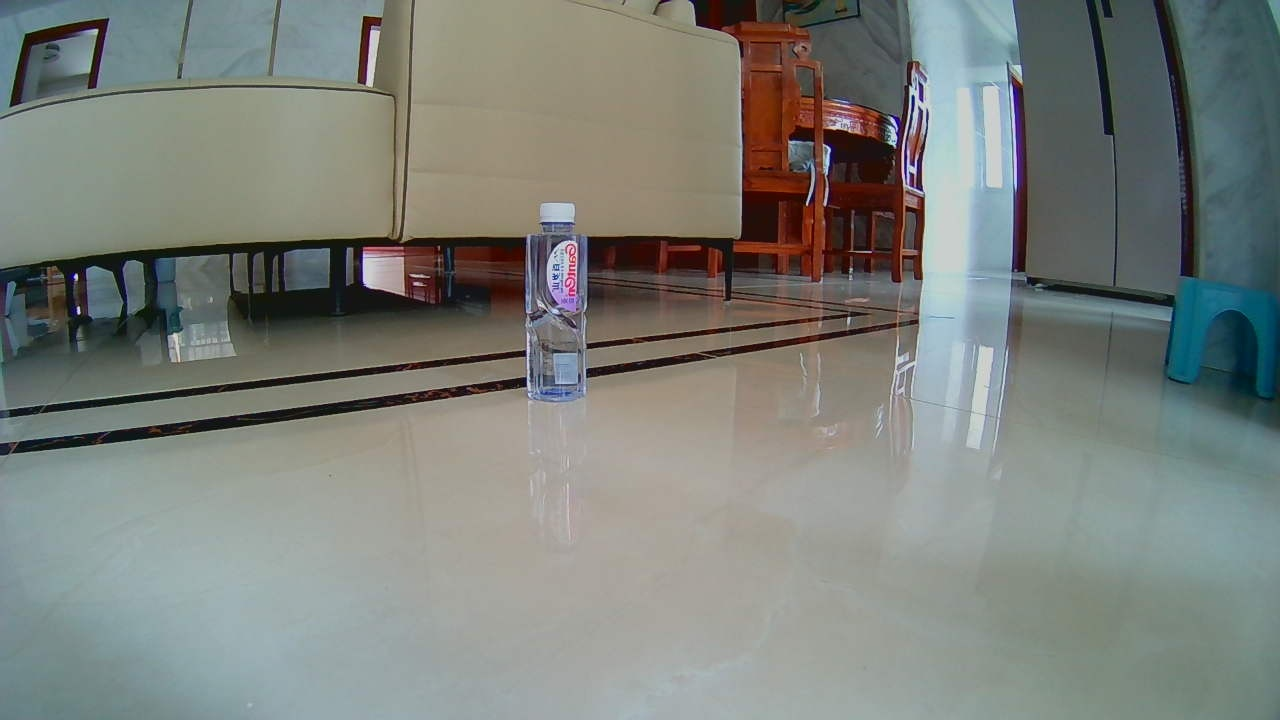water: (522, 201, 591, 401)
